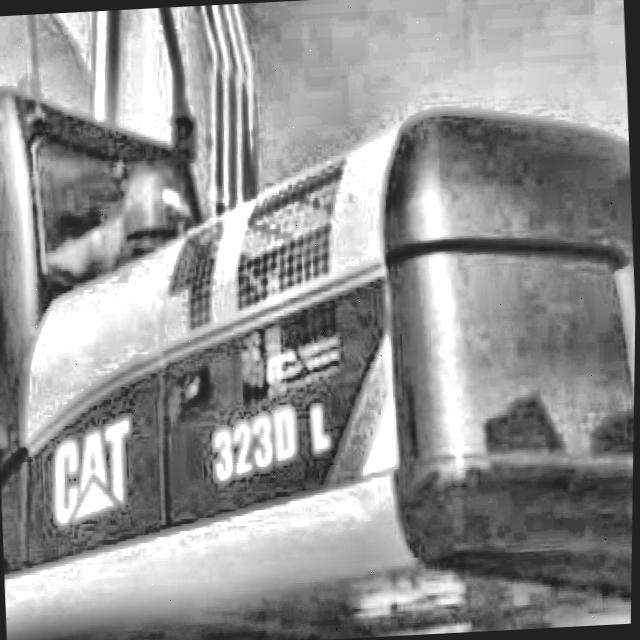excavator: (0, 50, 639, 640)
